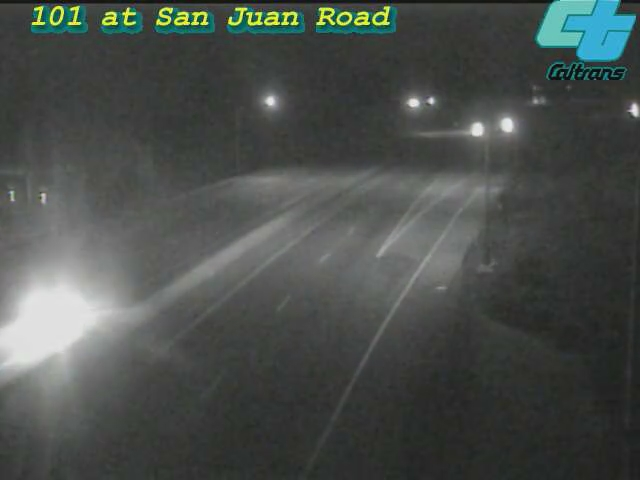vehicle: (1, 266, 97, 376), (449, 105, 499, 155), (480, 101, 530, 151), (610, 86, 640, 136)
